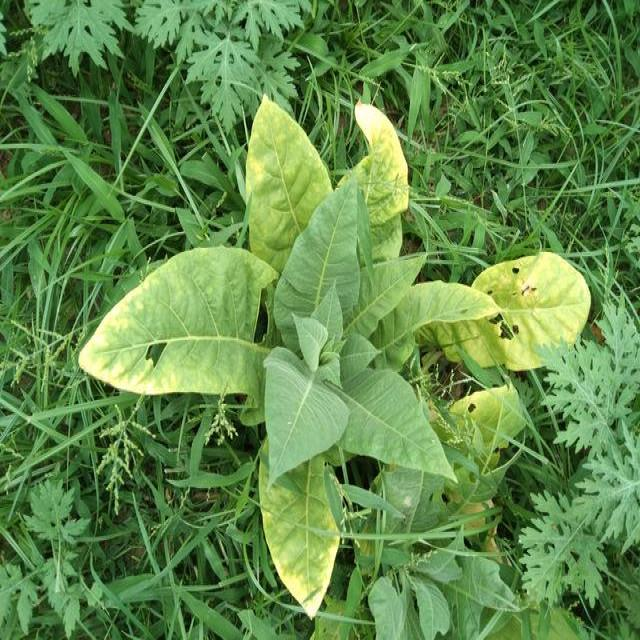crop: (75, 93, 586, 632)
